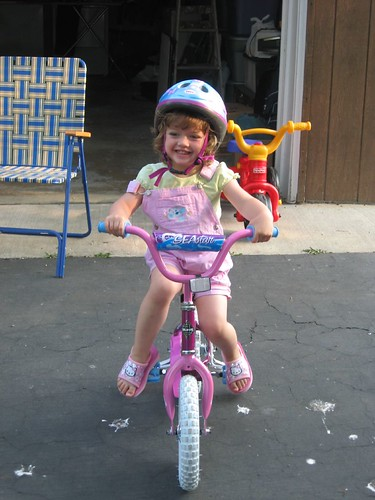helmet: (129, 66, 248, 119)
